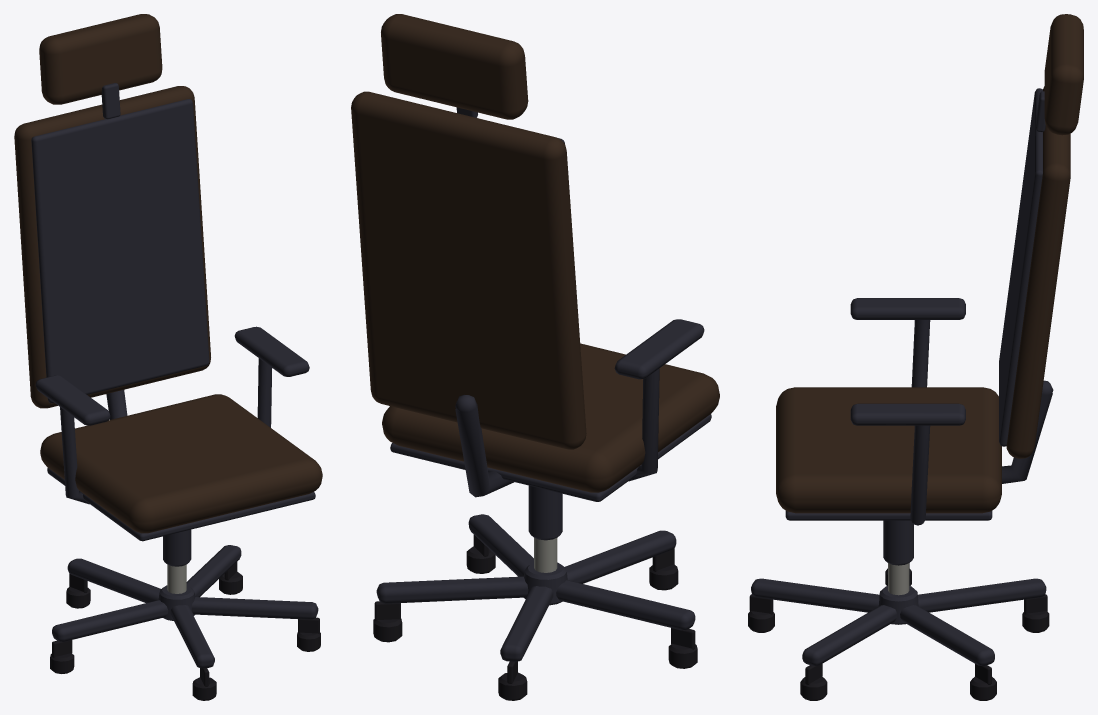
Rendered from exec-chair.glb.
3 renders of one model, left to right at view 1: azimuth 30°, elevation 25°; view 2: azimuth 150°, elevation 25°; view 3: azimuth 270°, elevation 25°, orthographic. The views are drawn at different scales.
Parts seen in each view (by area): view 1: toon_plastic, toon_leather, toon_brushed; view 2: toon_leather, toon_plastic, toon_brushed; view 3: toon_leather, toon_plastic, toon_brushed.
Part boxes in pixels (left/top/right/bottom): toon_plastic: left=31, top=83, right=320, bottom=700; toon_leather: left=14, top=14, right=322, bottom=533; toon_brushed: left=167, top=564, right=186, bottom=593; toon_leather: left=351, top=14, right=719, bottom=492; toon_plastic: left=373, top=107, right=711, bottom=700; toon_brushed: left=534, top=537, right=557, bottom=572; toon_leather: left=776, top=14, right=1083, bottom=513; toon_plastic: left=748, top=88, right=1053, bottom=700; toon_brushed: left=888, top=563, right=909, bottom=595.
Size of the model in its own units: 0.6216 by 1.39 by 0.6987.
